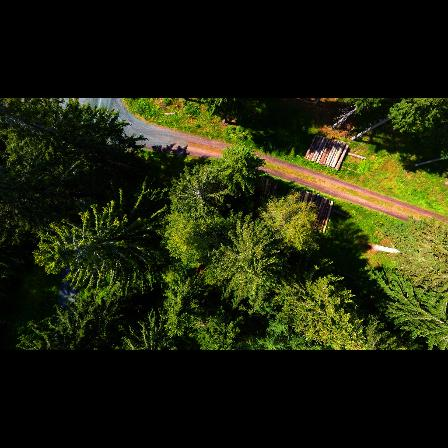Sick: (178, 168, 217, 215)
